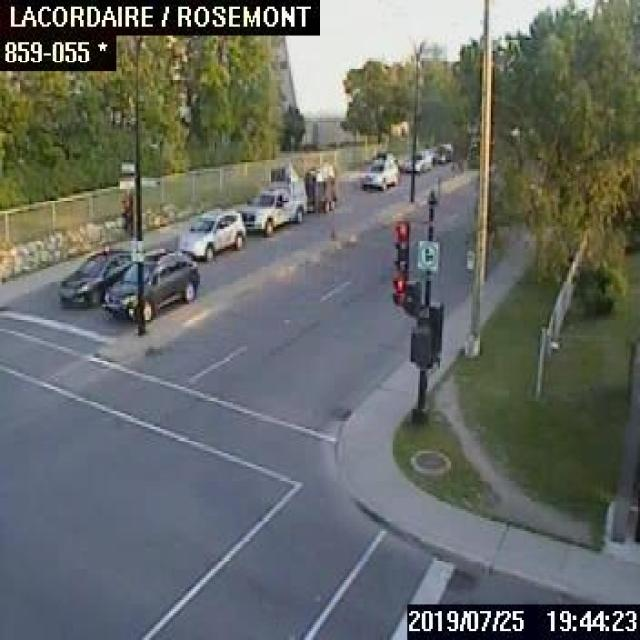vehicle: (101, 248, 198, 323), (241, 160, 336, 234), (57, 247, 134, 306), (177, 208, 244, 258), (361, 151, 397, 188), (403, 148, 431, 171), (430, 142, 453, 162)
